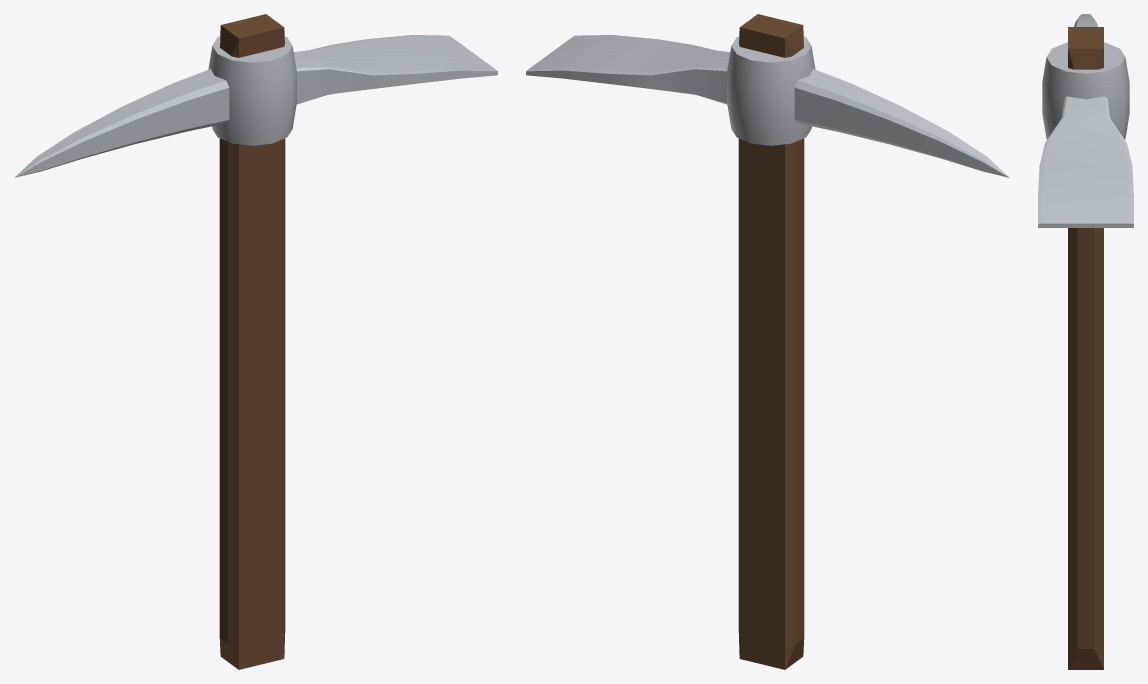
Rendered from pickaxe.glb.
3 views of the same model, side by side, from view 1: azimuth 30°, elevation 25°; view 2: azimuth 150°, elevation 25°; view 3: azimuth 270°, elevation 25° (orthographic).
Visible parts, largest first — view 1: Pickaxe; view 2: Pickaxe; view 3: Pickaxe.
Part boxes in pixels (bbox=[...]): Pickaxe: bbox=[14, 14, 497, 669]; Pickaxe: bbox=[526, 14, 1009, 669]; Pickaxe: bbox=[1038, 14, 1133, 669].
Size of the model in its own units: 0.37 by 0.4859 by 0.068.
